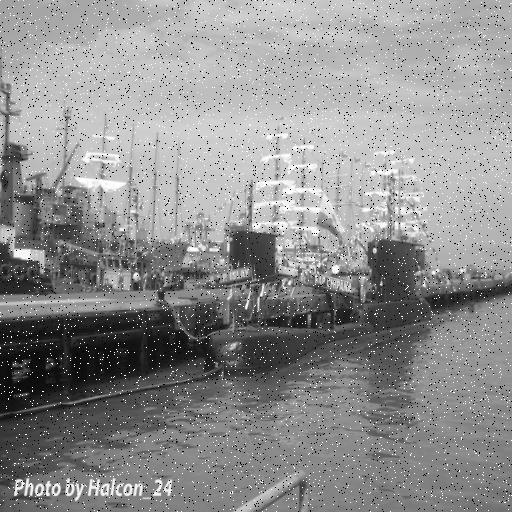submarine: (205, 239, 481, 381)
